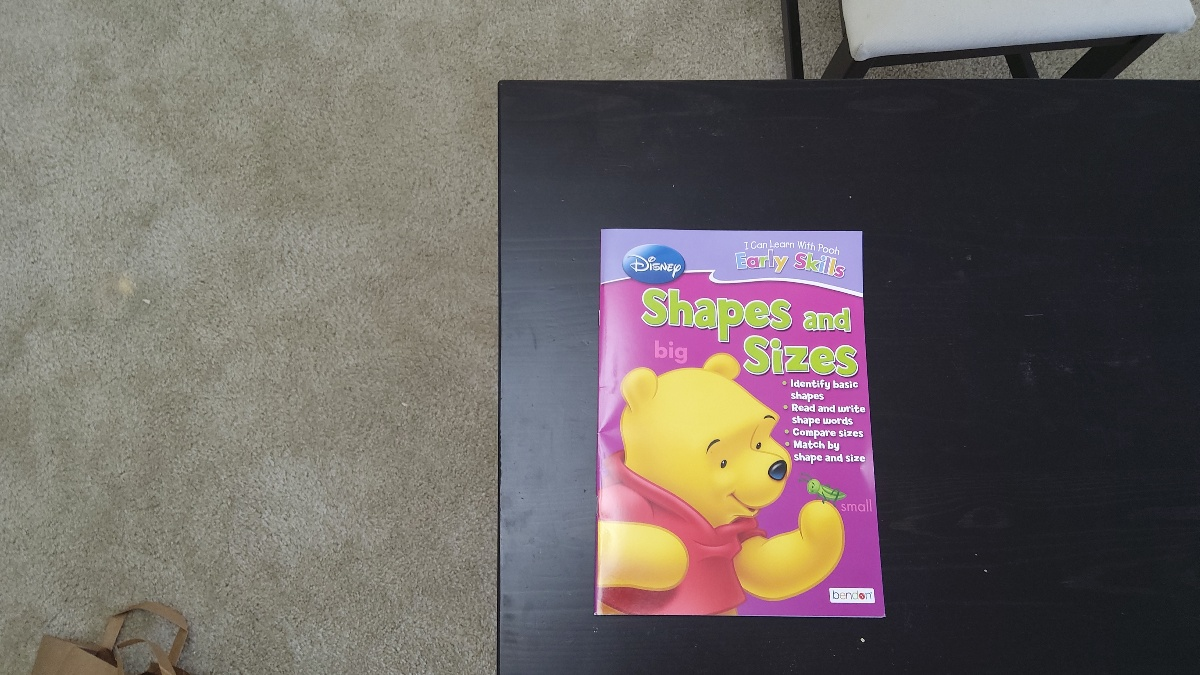book: (586, 226, 892, 619)
